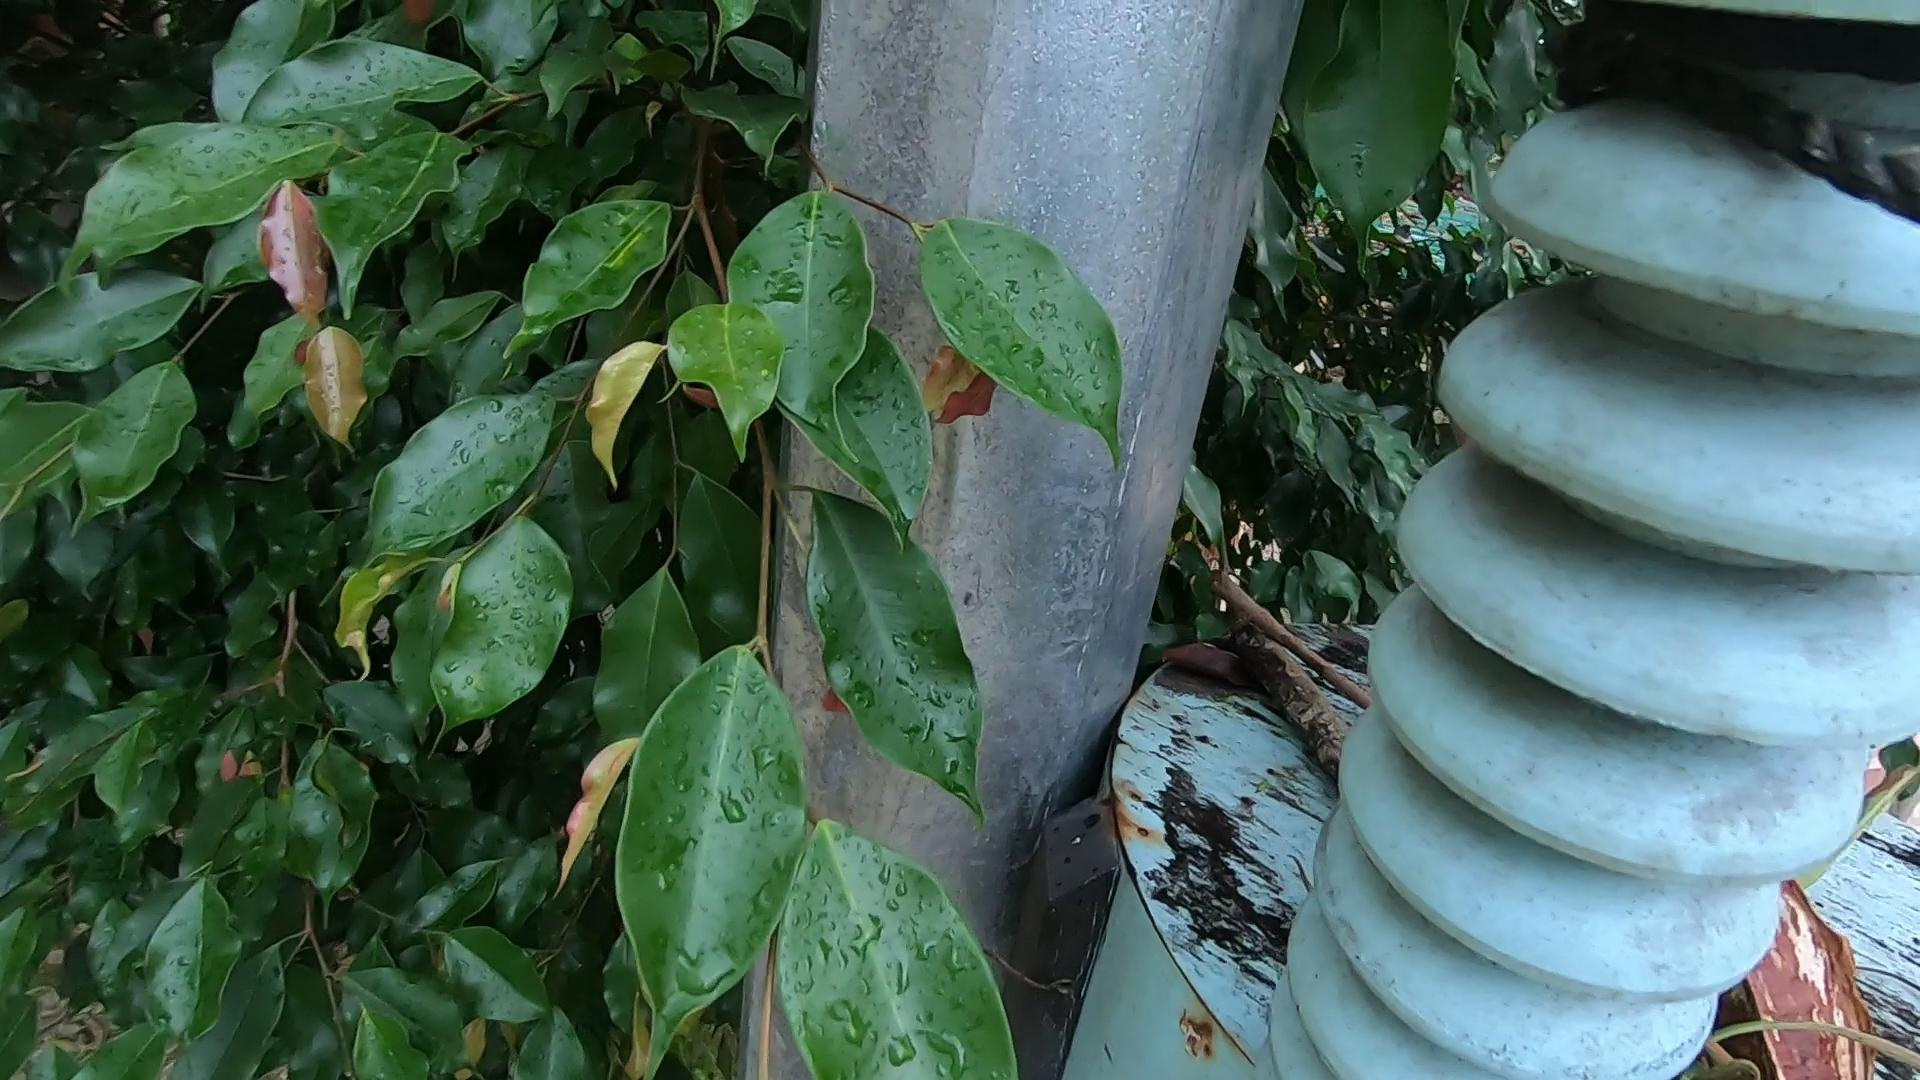branch with leaves: (1187, 541, 1316, 822)
mahogany fruit: (1714, 847, 1866, 1055)
tree branch: (1193, 549, 1375, 690)
